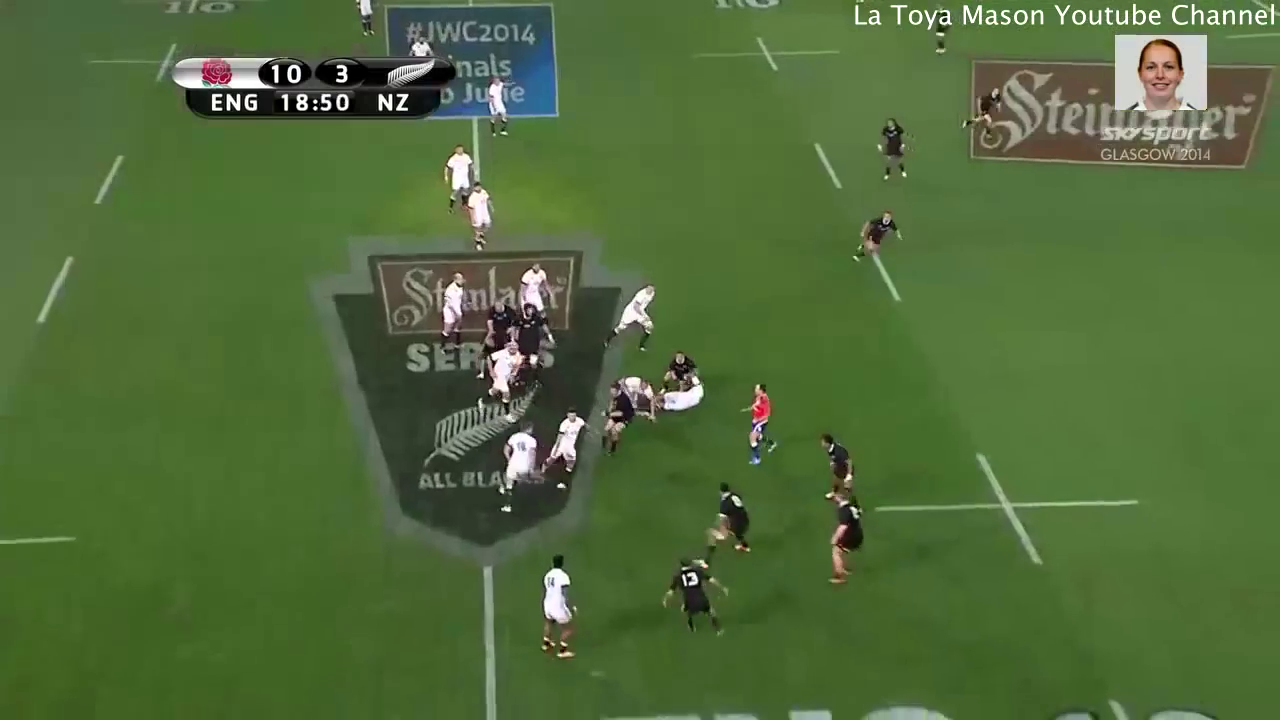10_metre: (869, 446, 1153, 572), (691, 34, 845, 78), (89, 44, 179, 84)
player: (653, 554, 732, 652), (539, 552, 584, 662), (540, 404, 596, 492), (825, 486, 870, 593), (601, 280, 662, 357), (704, 479, 760, 559), (497, 416, 537, 521), (738, 377, 781, 466), (433, 268, 473, 360), (848, 209, 905, 272), (481, 340, 521, 428), (509, 301, 549, 378), (874, 111, 914, 185), (597, 379, 633, 460), (440, 141, 477, 219), (813, 432, 860, 489), (613, 368, 661, 420), (959, 82, 999, 144), (463, 180, 494, 252), (481, 76, 514, 139), (648, 380, 709, 410), (655, 348, 696, 389), (517, 259, 551, 306), (479, 300, 513, 343), (351, 1, 381, 39), (405, 40, 437, 56)
ruck: (613, 362, 716, 432)
